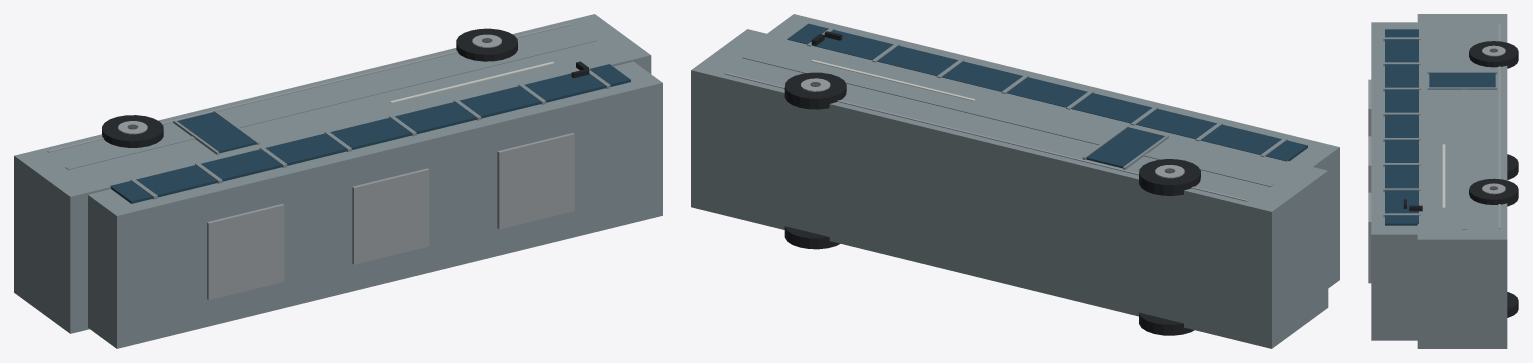
File: RM_Bus_17.glb
The picture shows the model from 3 angles, left to right: view 1: azimuth 30°, elevation 25°; view 2: azimuth 150°, elevation 25°; view 3: azimuth 270°, elevation 25°; orthographic projection. The views are drawn at different scales.
Parts seen in each view (by area): view 1: part_001, part_000, part_002, part_039, part_038, part_037, part_013, part_040, part_030, part_024, part_014; view 2: part_000, part_002, part_001, part_013, part_040, part_030, part_024, part_014, part_027, part_021; view 3: part_000, part_001, part_002, part_013, part_040, part_024, part_030, part_014, part_039, part_043, part_021, part_027 (+6 smaller).
Boxes of the visible parts, bbox=[...] form: part_001: bbox=[88, 61, 662, 348]; part_000: bbox=[14, 14, 651, 333]; part_002: bbox=[110, 64, 630, 203]; part_039: bbox=[497, 133, 574, 229]; part_038: bbox=[352, 168, 429, 264]; part_037: bbox=[207, 204, 284, 299]; part_013: bbox=[65, 38, 596, 169]; part_040: bbox=[177, 112, 255, 153]; part_030: bbox=[456, 28, 517, 61]; part_024: bbox=[102, 115, 163, 147]; part_014: bbox=[47, 23, 571, 152]; part_000: bbox=[691, 29, 1328, 348]; part_002: bbox=[787, 23, 1307, 161]; part_001: bbox=[767, 14, 1339, 288]; part_013: bbox=[742, 55, 1273, 186]; part_040: bbox=[1086, 127, 1164, 168]; part_030: bbox=[784, 72, 846, 109]; part_024: bbox=[1139, 159, 1200, 195]; part_014: bbox=[724, 72, 1248, 201]; part_027: bbox=[784, 226, 840, 249]; part_021: bbox=[1139, 312, 1194, 335]; part_000: bbox=[1417, 14, 1507, 348]; part_001: bbox=[1371, 22, 1417, 340]; part_002: bbox=[1385, 29, 1418, 225]; part_013: bbox=[1462, 23, 1467, 229]; part_040: bbox=[1429, 73, 1495, 87]; part_024: bbox=[1469, 41, 1518, 68]; part_030: bbox=[1469, 178, 1518, 206]; part_014: bbox=[1498, 24, 1500, 228]; part_039: bbox=[1368, 192, 1371, 283]; part_043: bbox=[1442, 144, 1445, 208]; part_021: bbox=[1507, 154, 1518, 179]; part_027: bbox=[1507, 292, 1518, 317].
Bounding box in the file's own units: 11.22 × 2.85 × 3.16.
